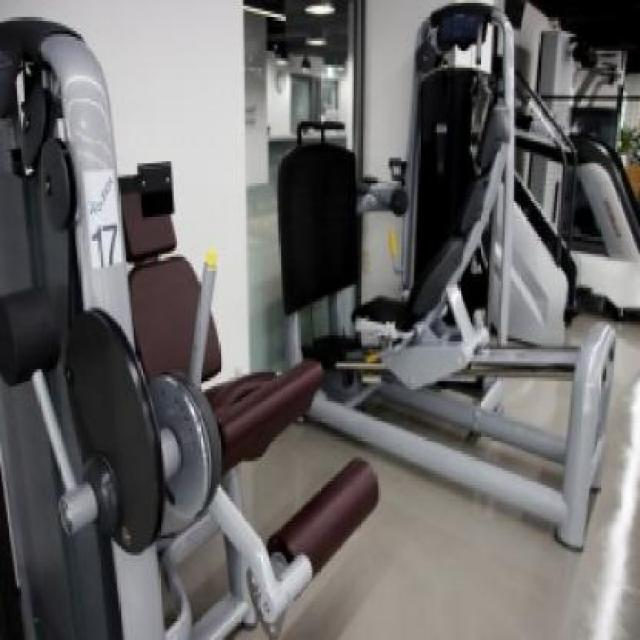leg press: (234, 0, 628, 565)
